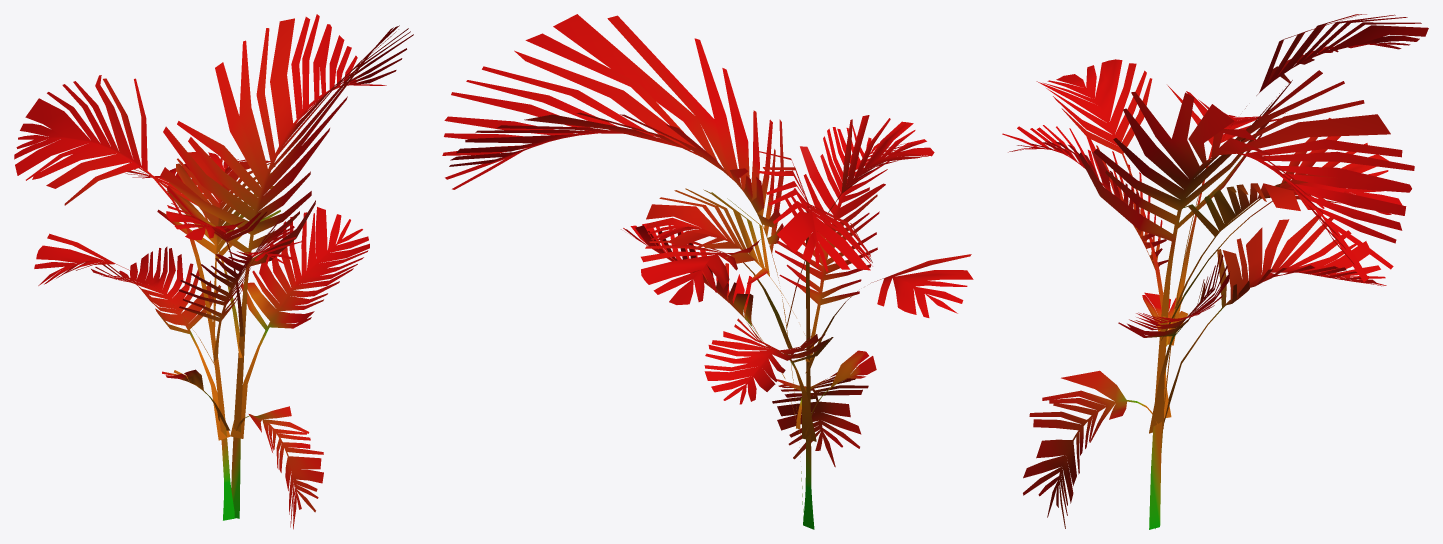
File: Areca Palm_LOD1_Var5_shFjC.fbx
The picture shows the model from 3 angles, left to right: view 1: azimuth 30°, elevation 25°; view 2: azimuth 150°, elevation 25°; view 3: azimuth 270°, elevation 25°; orthographic projection. The views are drawn at different scales.
Visible parts, largest first — view 1: _ecdd_Var5_LOD1; view 2: _ecdd_Var5_LOD1; view 3: _ecdd_Var5_LOD1.
Boxes of the visible parts, box(x1,y1,x2,y2) form: _ecdd_Var5_LOD1: box(14, 14, 413, 529); _ecdd_Var5_LOD1: box(442, 14, 973, 529); _ecdd_Var5_LOD1: box(1002, 14, 1428, 529).
Bounding box in the file's own units: 256 × 254 × 184.
